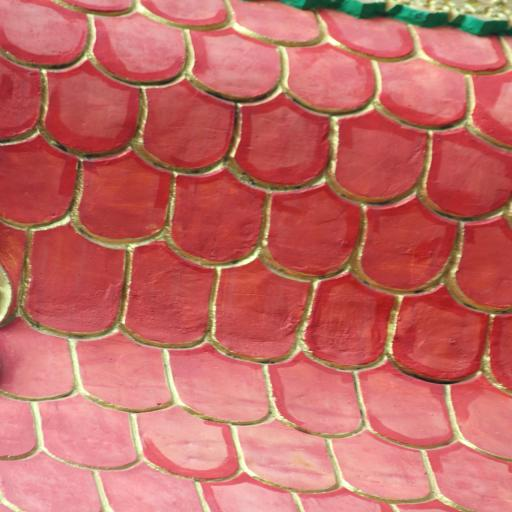la: (488, 162, 497, 170)
